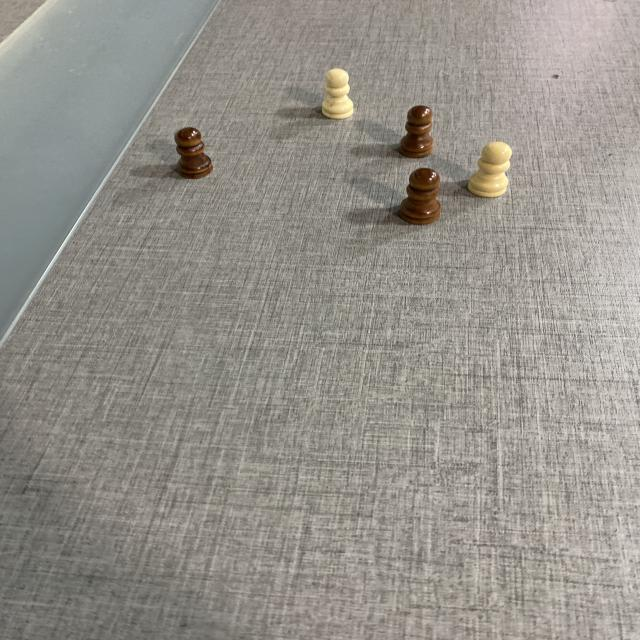Black-Pawn: (398, 167, 440, 224), (175, 127, 215, 177), (401, 106, 434, 154)
White-Pawn: (467, 141, 514, 198), (321, 69, 355, 120)
